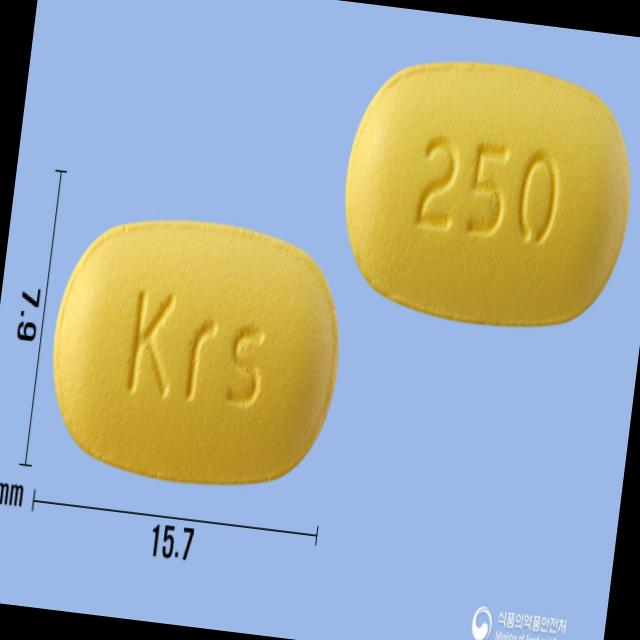Clomicin: (37, 202, 354, 500), (330, 47, 640, 343)
